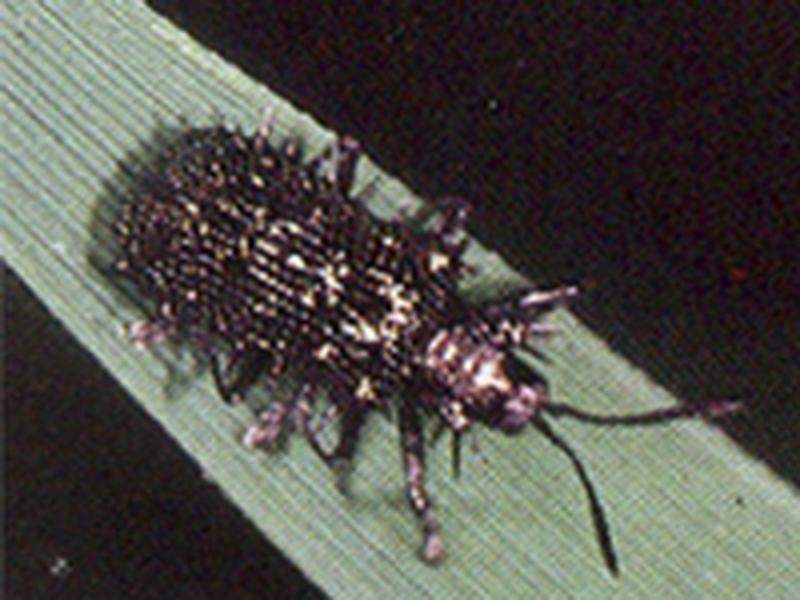Spiny_beetle: (88, 115, 567, 484)
